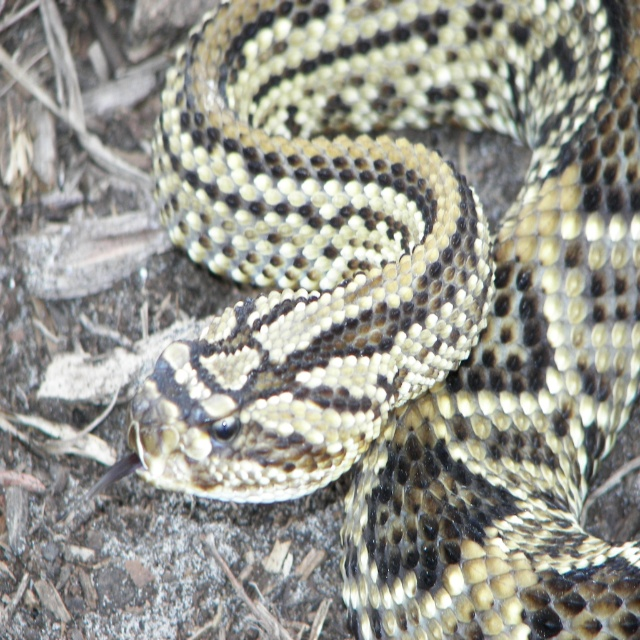Snake: (74, 0, 640, 639)
